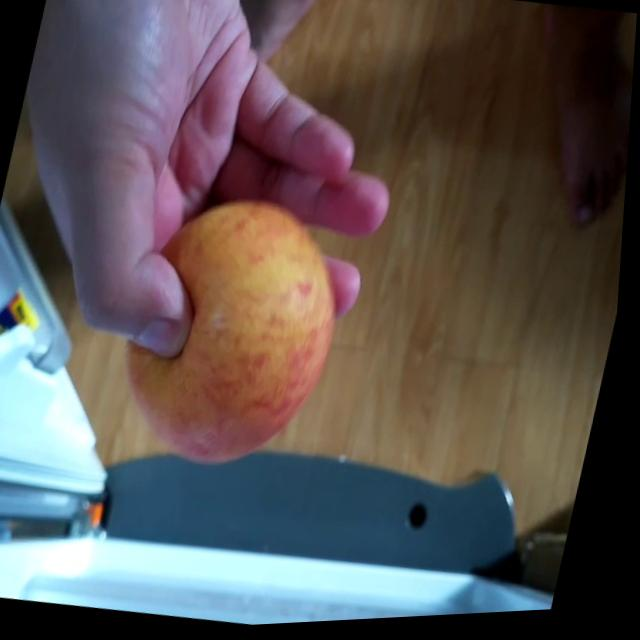apple: (127, 186, 369, 484)
